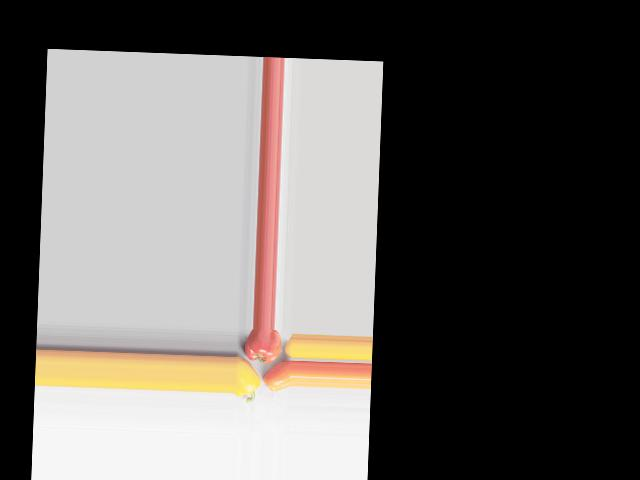bell_pepper: (241, 329, 281, 363)
